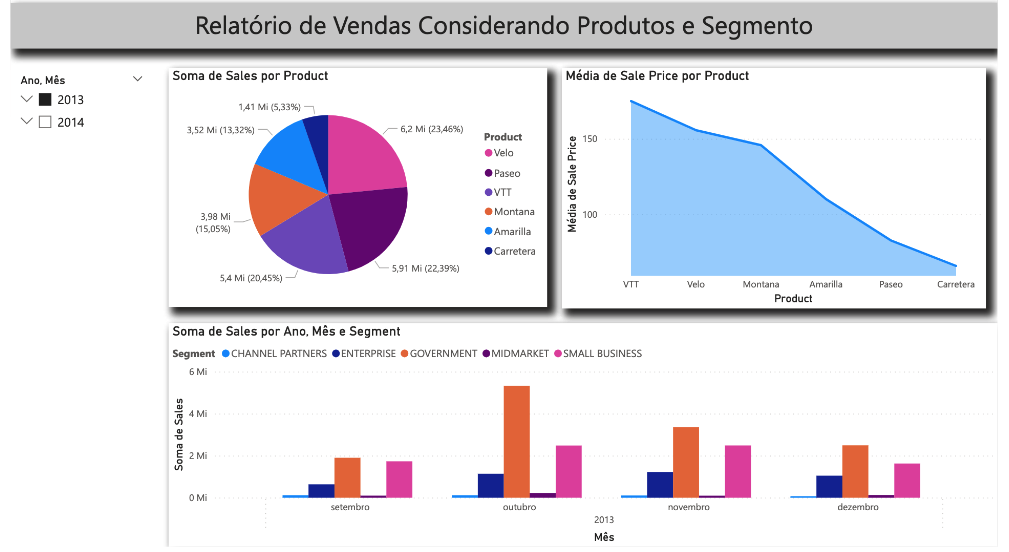

The page's visual inventory and layout, read from the dashboard file:
{"tool":"powerbi","page":{"name":"Página 1","canvas":[1280,720],"ordinal":0},"visuals":[{"type":"pieChart","fields":{"Category":["financials.Product"],"Y":["Sum(financials. Sales)"]},"box":[205.5,98.7,490.2,310.7],"z":0},{"type":"areaChart","fields":{"Category":["financials.Product"],"Y":["Avg(financials.Sale Price)"]},"box":[715.1,98.7,550.1,312.3],"z":1000},{"type":"clusteredColumnChart","fields":{"Category":["financials.Date.Variation.Hierarquia de datas.Ano","financials.Date.Variation.Hierarquia de datas.Mês"],"Y":["Sum(financials. Sales)"],"Series":["financials.Segment"]},"box":[205.5,430.4,1074.3,289.6],"z":2000},{"type":"slicer","fields":{"Values":["financials.Date.Variation.Hierarquia de datas.Ano","financials.Date.Variation.Hierarquia de datas.Mês"]},"box":[0,101.9,184.4,618.1],"z":3000},{"type":"textbox","box":[0,14.6,1279.8,59.9],"z":4000}]}

Visuals, with their boxes in screenshot pixels (x1, y1, x2, y2), scaled from the page's 1280x720 canvas onto the 1009x552 screenshot:
pieChart - financials.Product x Sum(financials. Sales): locate(162, 76, 548, 314)
areaChart - financials.Product x Avg(financials.Sale Price): locate(564, 76, 997, 315)
clusteredColumnChart - financials.Date.Variation.Hierarquia de datas.Ano x financials.Date.Variation.Hierarquia de datas.Mês: locate(162, 330, 1008, 551)
slicer - financials.Date.Variation.Hierarquia de datas.Ano x financials.Date.Variation.Hierarquia de datas.Mês: locate(0, 78, 145, 551)
textbox: locate(0, 11, 1008, 57)
